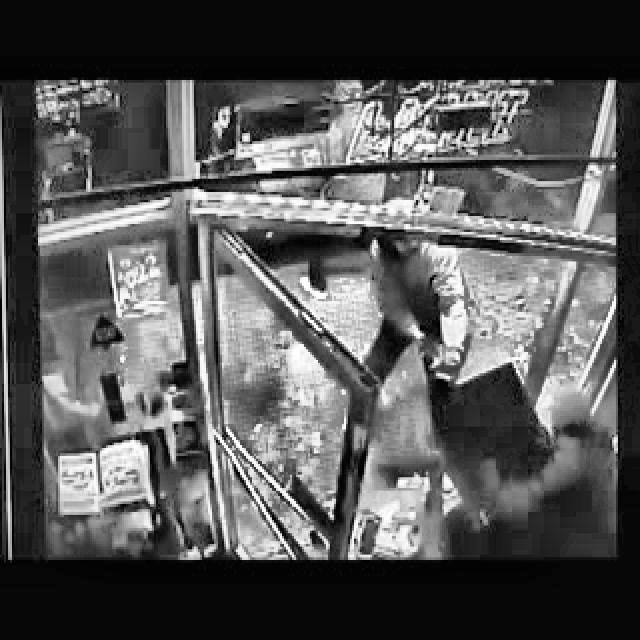burglary: (362, 240, 563, 506), (230, 82, 369, 199)
